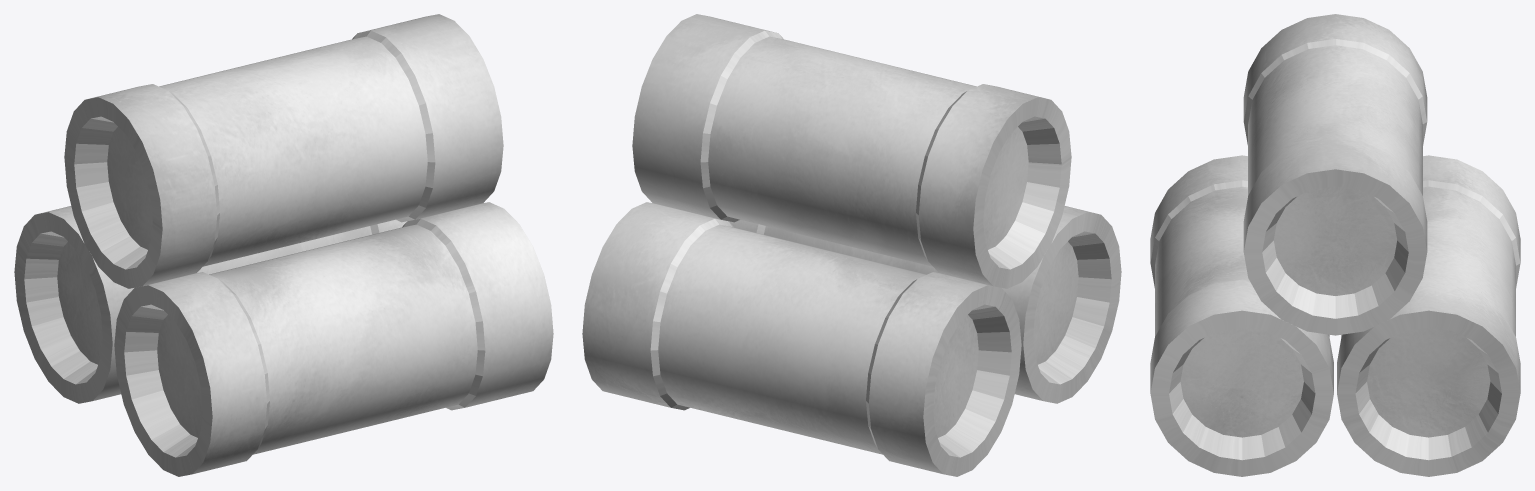
Rendered from Pipe.fbx.
3 views of the same model, side by side, from view 1: azimuth 30°, elevation 25°; view 2: azimuth 150°, elevation 25°; view 3: azimuth 270°, elevation 25° (orthographic). The views are drawn at different scales.
Parts seen in each view (by area): view 1: pCylinder3, pCylinder1, pCylinder2; view 2: pCylinder3, pCylinder2, pCylinder1; view 3: pCylinder3, pCylinder1, pCylinder2.
Boxes of the visible parts, bbox=[...] form: pCylinder3: bbox=[64, 14, 503, 288]; pCylinder1: bbox=[114, 202, 553, 476]; pCylinder2: bbox=[14, 206, 407, 403]; pCylinder3: bbox=[632, 14, 1071, 288]; pCylinder2: bbox=[582, 202, 1021, 476]; pCylinder1: bbox=[729, 206, 1121, 403]; pCylinder3: bbox=[1243, 14, 1427, 335]; pCylinder1: bbox=[1150, 155, 1333, 476]; pCylinder2: bbox=[1337, 155, 1520, 476].
Size of the model in its own units: 0.9928 by 0.9176 by 1.
